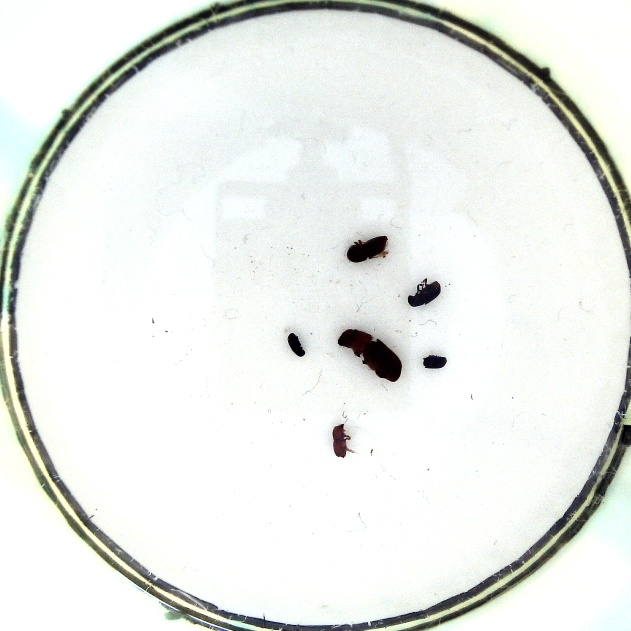acuminatus: (328, 422, 357, 464)
armandi: (407, 274, 441, 308)
coleoptera: (284, 330, 306, 358), (421, 351, 451, 371)
leconte: (334, 329, 403, 382)
linnaeus: (343, 236, 393, 264)
